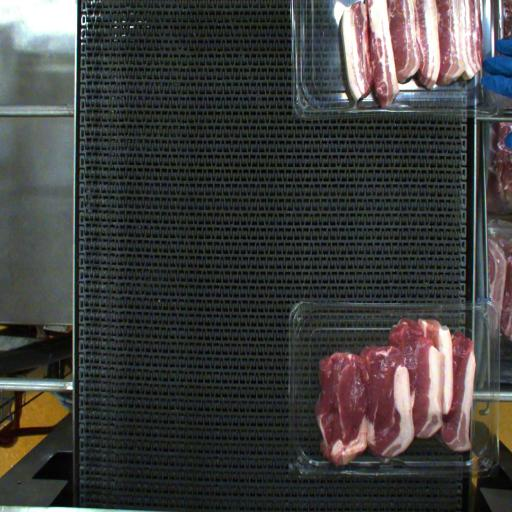packaging-error: (320, 433, 416, 485)
